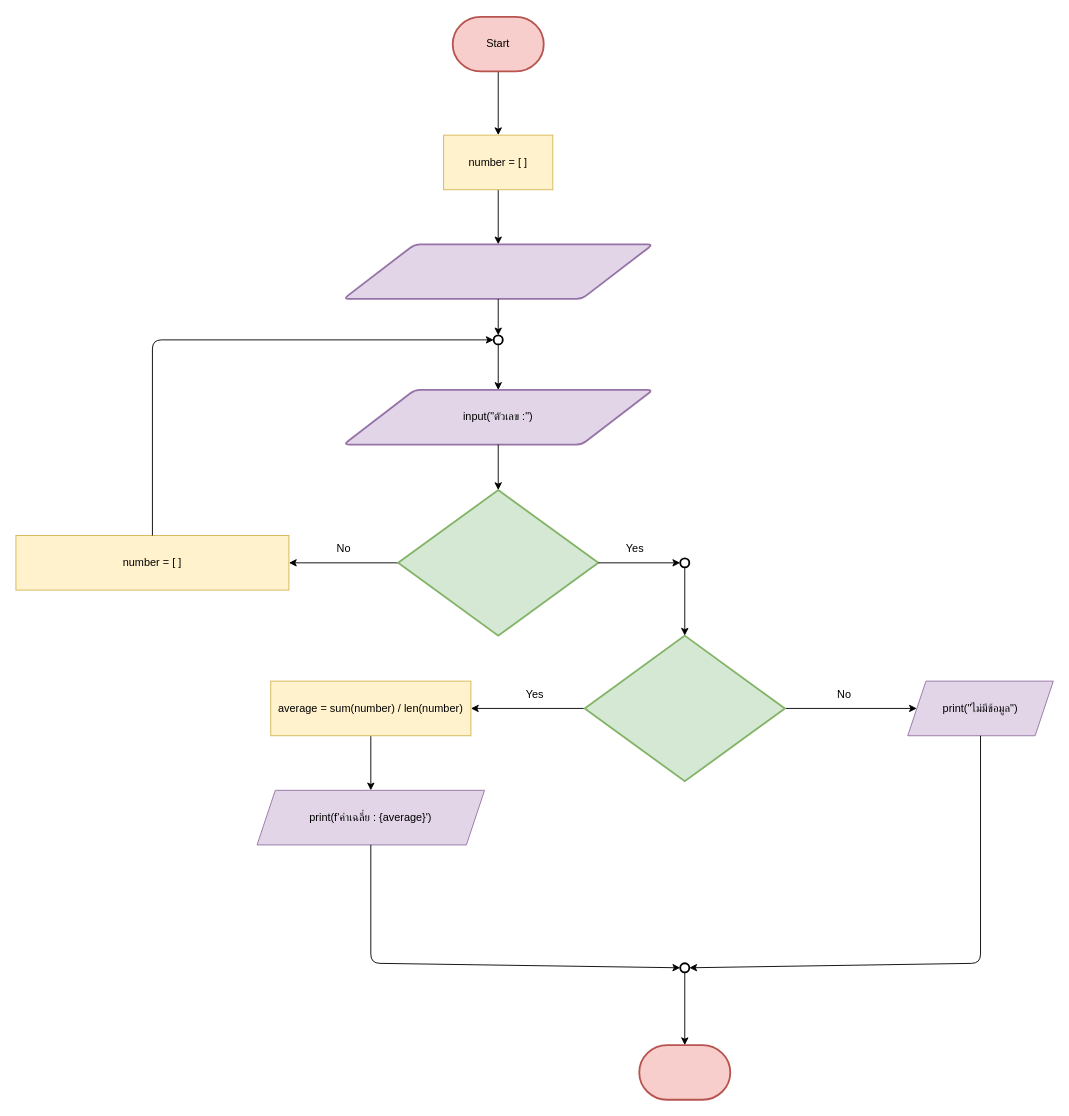
Some shapes in this 1069 by 1116 pixel diagram are drawn without their labels. Here are the shapes that lost their labels. From the top down, the box of each, then its label:
(342, 243, 653, 299): print("กรอกตัวเลข(พิม q เพื่อหยุด)")
(397, 489, 599, 636): user_input == q
(583, 634, 785, 782): number
(638, 1044, 731, 1100): end
